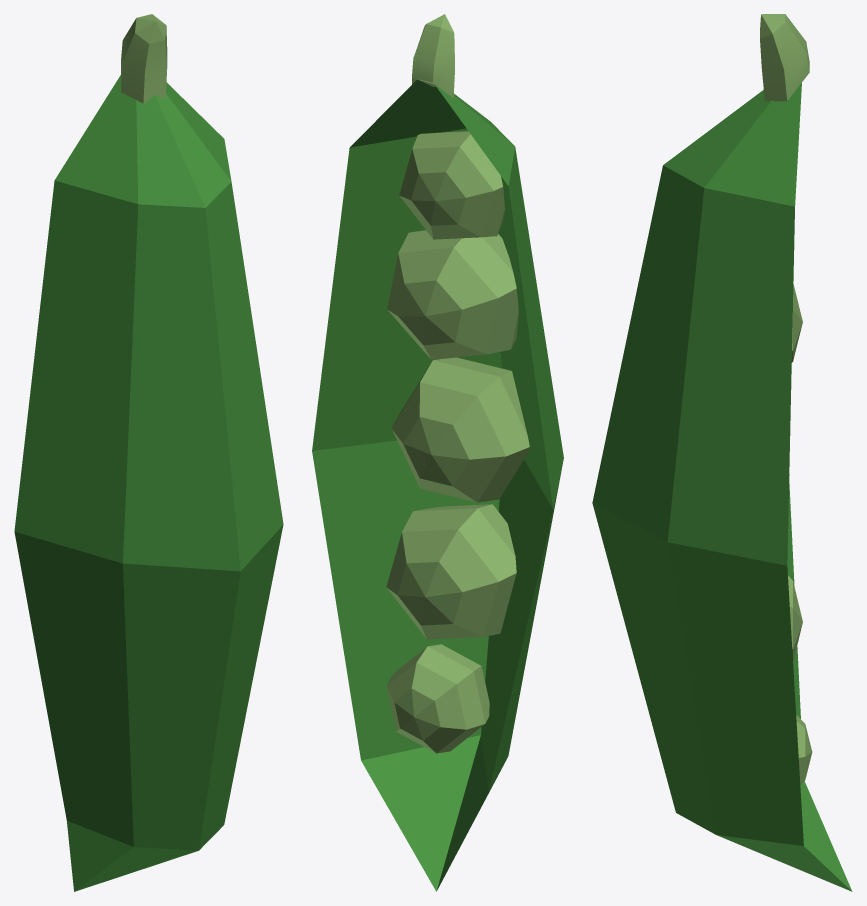
The model's file is PeaStalk.fbx.
3 renders of one model, left to right at view 1: azimuth 30°, elevation 25°; view 2: azimuth 150°, elevation 25°; view 3: azimuth 270°, elevation 25°, orthographic. The views are drawn at different scales.
Parts seen in each view (by area): view 1: pCube1, pCylinder1; view 2: pCube1, pSphere5, pSphere4, pSphere6, pSphere2, pSphere3, pCylinder1; view 3: pCube1, pCylinder1, pSphere3, pSphere4.
Boxes of the visible parts, x1=… form: pCube1: x1=14, y1=75, x2=283, y2=891; pCylinder1: x1=121, y1=14, x2=167, y2=104; pCube1: x1=312, y1=79, x2=563, y2=891; pSphere5: x1=391, y1=357, x2=529, y2=502; pSphere4: x1=386, y1=504, x2=516, y2=639; pSphere6: x1=387, y1=230, x2=518, y2=359; pSphere2: x1=399, y1=131, x2=504, y2=239; pSphere3: x1=386, y1=644, x2=489, y2=753; pCylinder1: x1=412, y1=14, x2=454, y2=97; pCube1: x1=592, y1=83, x2=852, y2=891; pCylinder1: x1=760, y1=14, x2=809, y2=101; pSphere3: x1=796, y1=715, x2=812, y2=784; pSphere4: x1=788, y1=575, x2=802, y2=662.
Bounding box in the file's own units: 0.8777 × 2.91 × 0.767.
